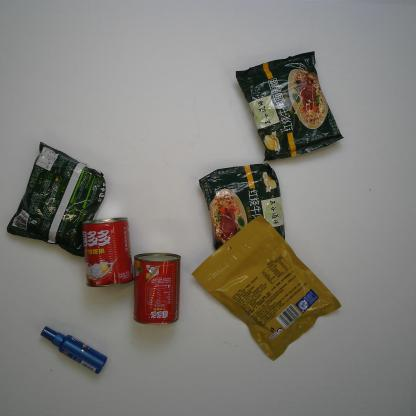Canned Food: (81, 216, 135, 288), (133, 252, 182, 326)
Dried Fruit: (191, 213, 342, 362)
Instant Noodles: (235, 50, 344, 162), (6, 141, 106, 257), (198, 163, 286, 258)
Personal Hygiene: (40, 326, 108, 374)
